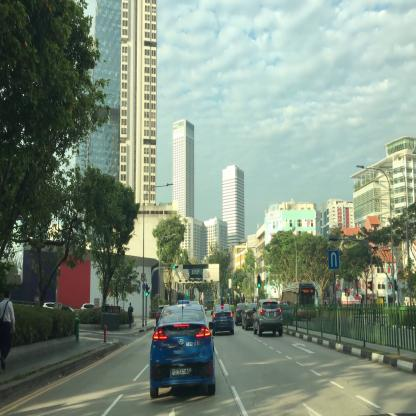green_traffic_light: (257, 274, 260, 288), (145, 283, 148, 296), (173, 265, 178, 268), (228, 288, 230, 295)
